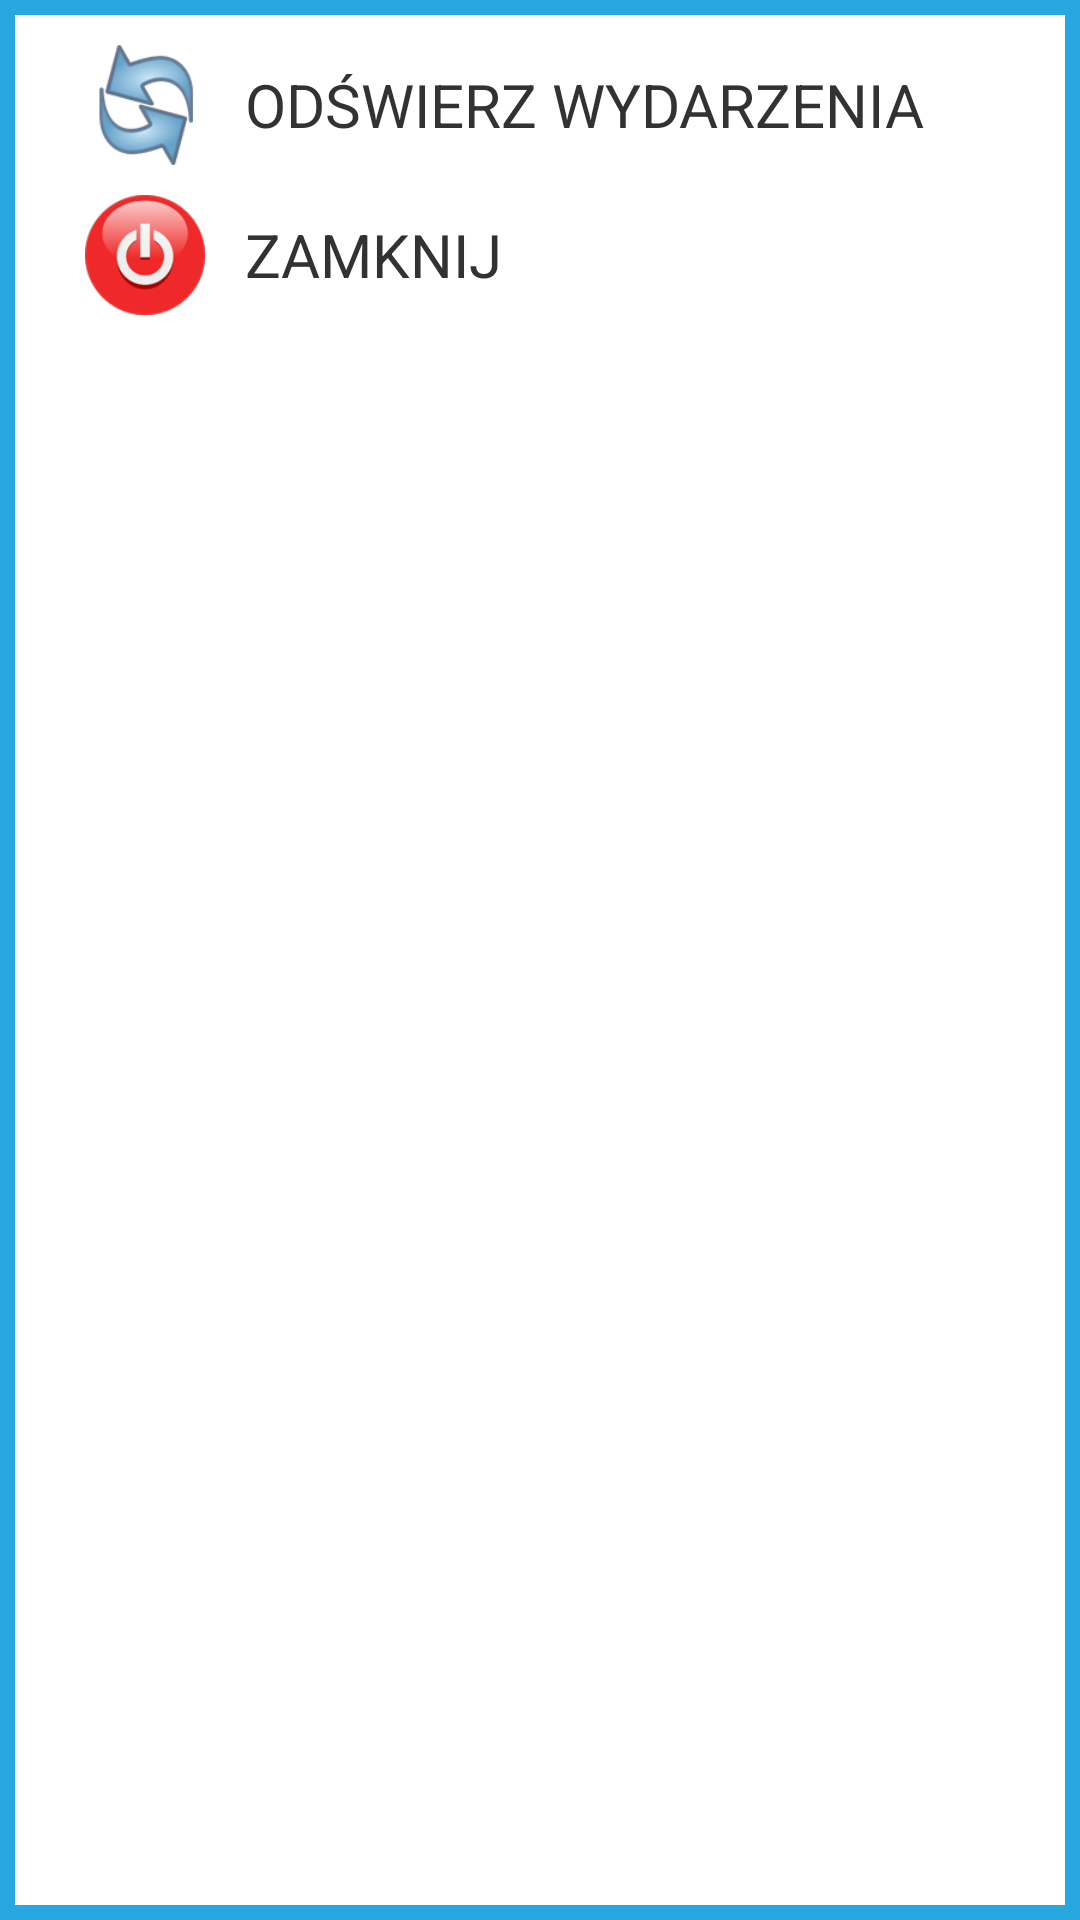

Icon bounding boxes for this 1080 x 1920 phone screenshot, format (x1, y1, x2, y2):
exit: (85, 195, 205, 315)
refresh: (99, 45, 193, 165)
